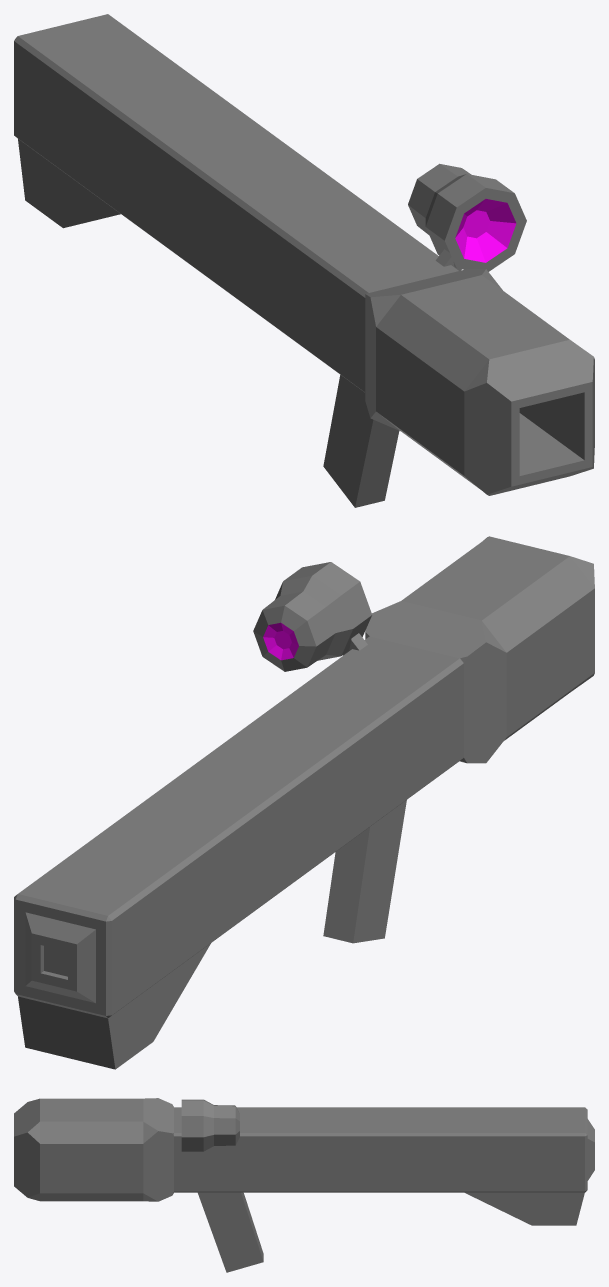
The model's file is BeamBazooka.fbx.
3 views of the same model, one above another, from view 1: azimuth 30°, elevation 25°; view 2: azimuth 150°, elevation 25°; view 3: azimuth 270°, elevation 25° (orthographic). The views are drawn at different scales.
Parts seen in each view (by area): view 1: BeamBazooka; view 2: BeamBazooka; view 3: BeamBazooka.
Part boxes in pixels (<box>): BeamBazooka: <box>14,14,594,507</box>; BeamBazooka: <box>14,536,594,1069</box>; BeamBazooka: <box>14,1098,594,1272</box>.
Bounding box in the file's own units: 126 × 591 × 213.
